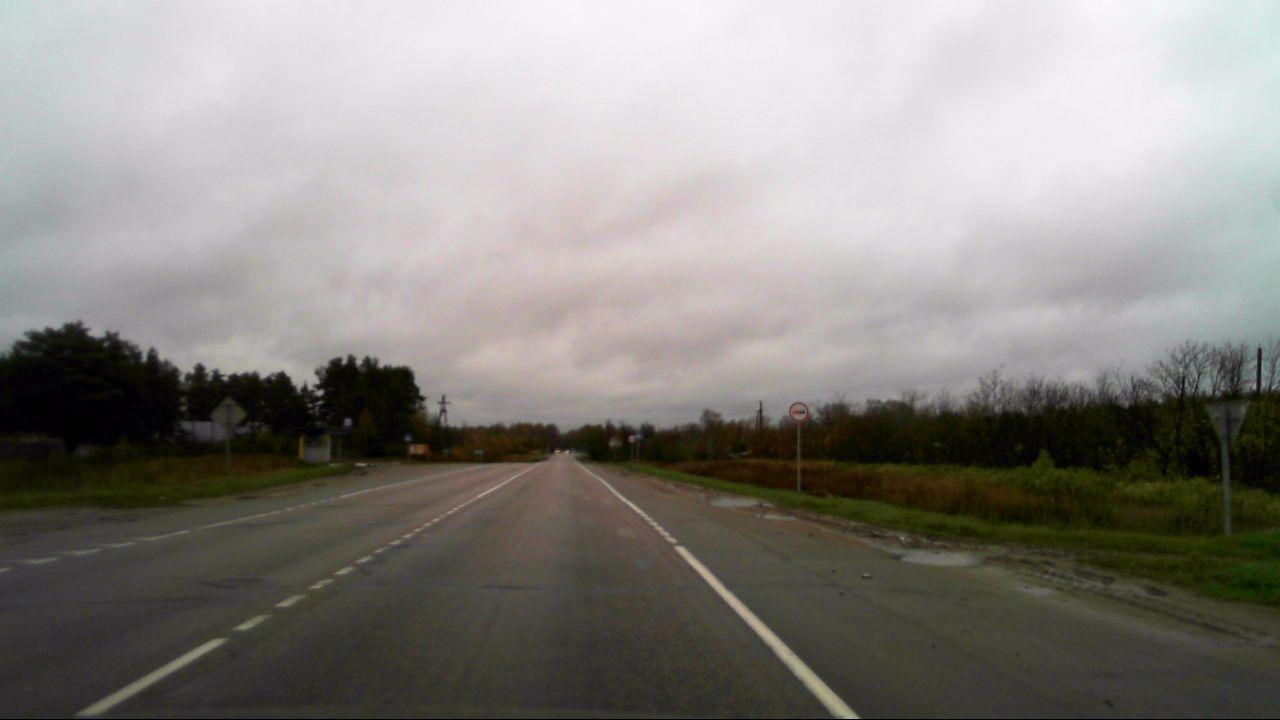road_sign: (788, 400, 809, 423)
